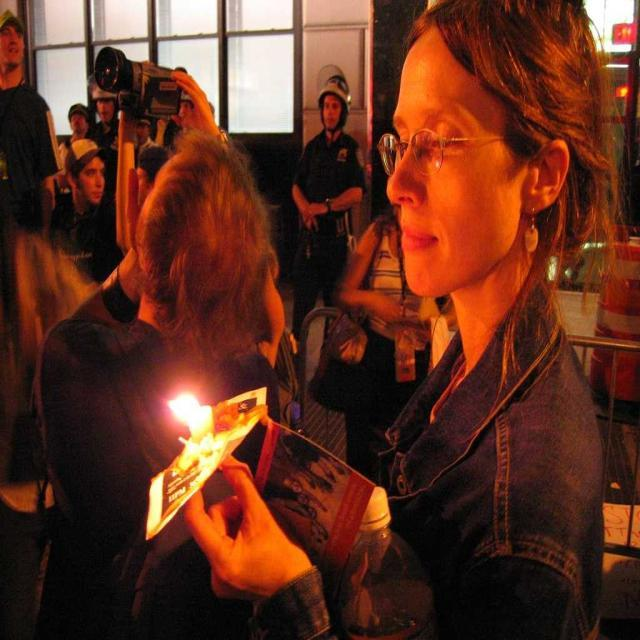Fire: (162, 392, 216, 434)
